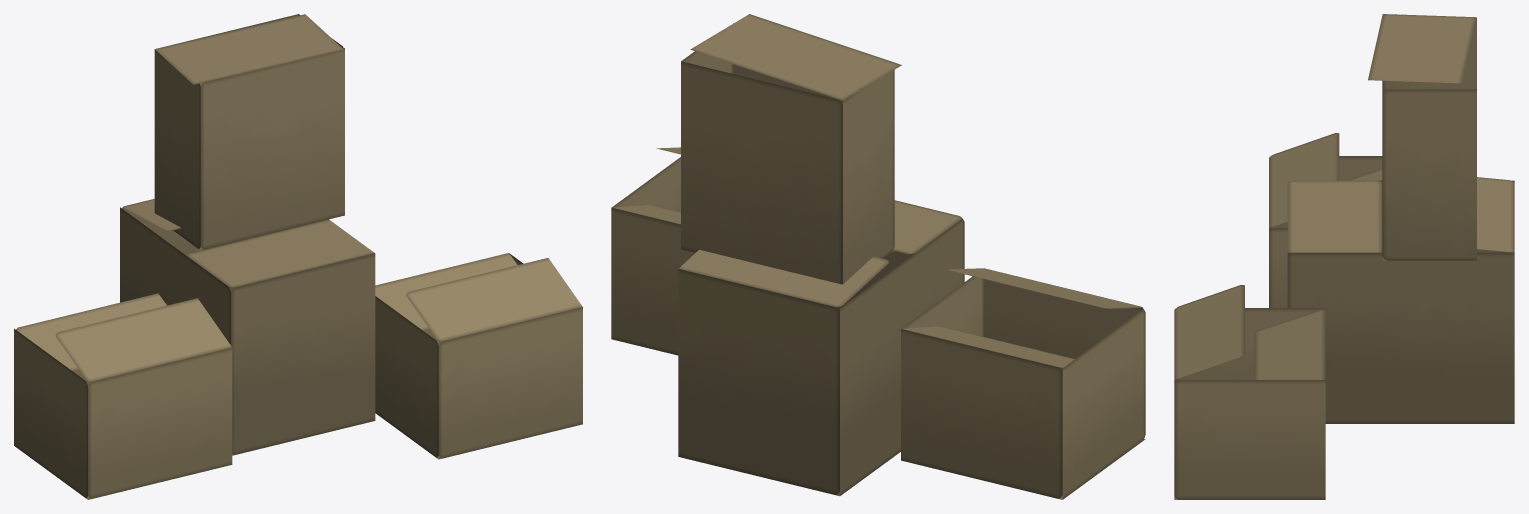
File: cardboardboxes2.obj
3 renders of one model, left to right at view 1: azimuth 30°, elevation 25°; view 2: azimuth 150°, elevation 25°; view 3: azimuth 270°, elevation 25°, orthographic. The views are drawn at different scales.
Visible parts, largest first — view 1: baseModel3, baseModel17, baseModel10, baseModel25, baseModel8, baseModel12, baseModel23, baseModel14, baseModel22, baseModel19, baseModel5, baseModel1 (+4 smaller); view 2: baseModel0, baseModel15, baseModel7, baseModel1, baseModel8, baseModel14, baseModel20, baseModel19, baseModel10, baseModel6, baseModel9, baseModel5 (+5 smaller); view 3: baseModel2, baseModel24, baseModel16, baseModel5, baseModel19, baseModel23, baseModel21, baseModel12, baseModel6, baseModel22, baseModel9, baseModel14 (+1 smaller).
Boxes of the visible parts, x1,y1,x2,y2 form: baseModel3: (231, 253, 375, 454); baseModel17: (200, 48, 344, 249); baseModel10: (88, 347, 232, 498); baseModel25: (438, 307, 582, 458); baseModel8: (14, 328, 87, 497); baseModel12: (55, 298, 231, 381); baseModel23: (406, 258, 582, 341); baseModel14: (154, 49, 200, 248); baseModel22: (375, 296, 438, 457); baseModel19: (155, 14, 343, 84); baseModel5: (187, 219, 374, 287); baseModel1: (120, 207, 230, 344); baseModel0: (678, 269, 839, 494); baseModel15: (681, 61, 842, 284); baseModel7: (901, 329, 1062, 498); baseModel1: (840, 219, 964, 495); baseModel8: (1062, 309, 1145, 499); baseModel14: (843, 70, 894, 284); baseModel20: (611, 207, 695, 355); baseModel19: (690, 14, 901, 100); baseModel10: (984, 279, 1143, 372); baseModel6: (678, 249, 888, 307); baseModel9: (901, 276, 983, 336); baseModel5: (893, 200, 961, 253); baseModel2: (1287, 252, 1514, 423); baseModel24: (1174, 380, 1325, 499); baseModel16: (1382, 89, 1476, 260); baseModel5: (1287, 180, 1382, 252); baseModel19: (1368, 14, 1476, 83); baseModel23: (1174, 285, 1244, 379); baseModel21: (1254, 309, 1325, 379); baseModel12: (1269, 133, 1339, 227); baseModel6: (1477, 177, 1514, 252); baseModel22: (1174, 308, 1325, 383); baseModel9: (1269, 228, 1287, 307); baseModel14: (1382, 18, 1476, 92).
Bounding box in the file's own units: 28 × 20.31 × 18.
